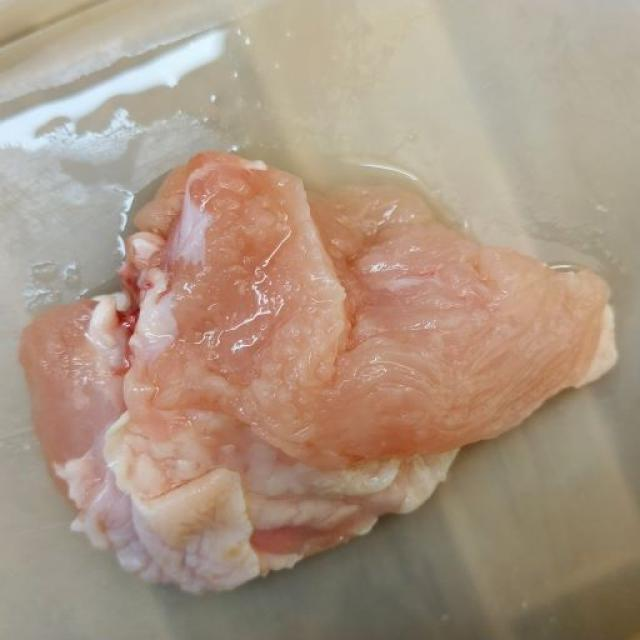chicken: (17, 148, 618, 595)
